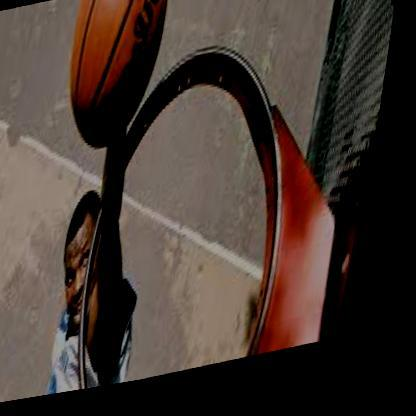basketball: (53, 0, 180, 165)
rim: (65, 32, 334, 399)
